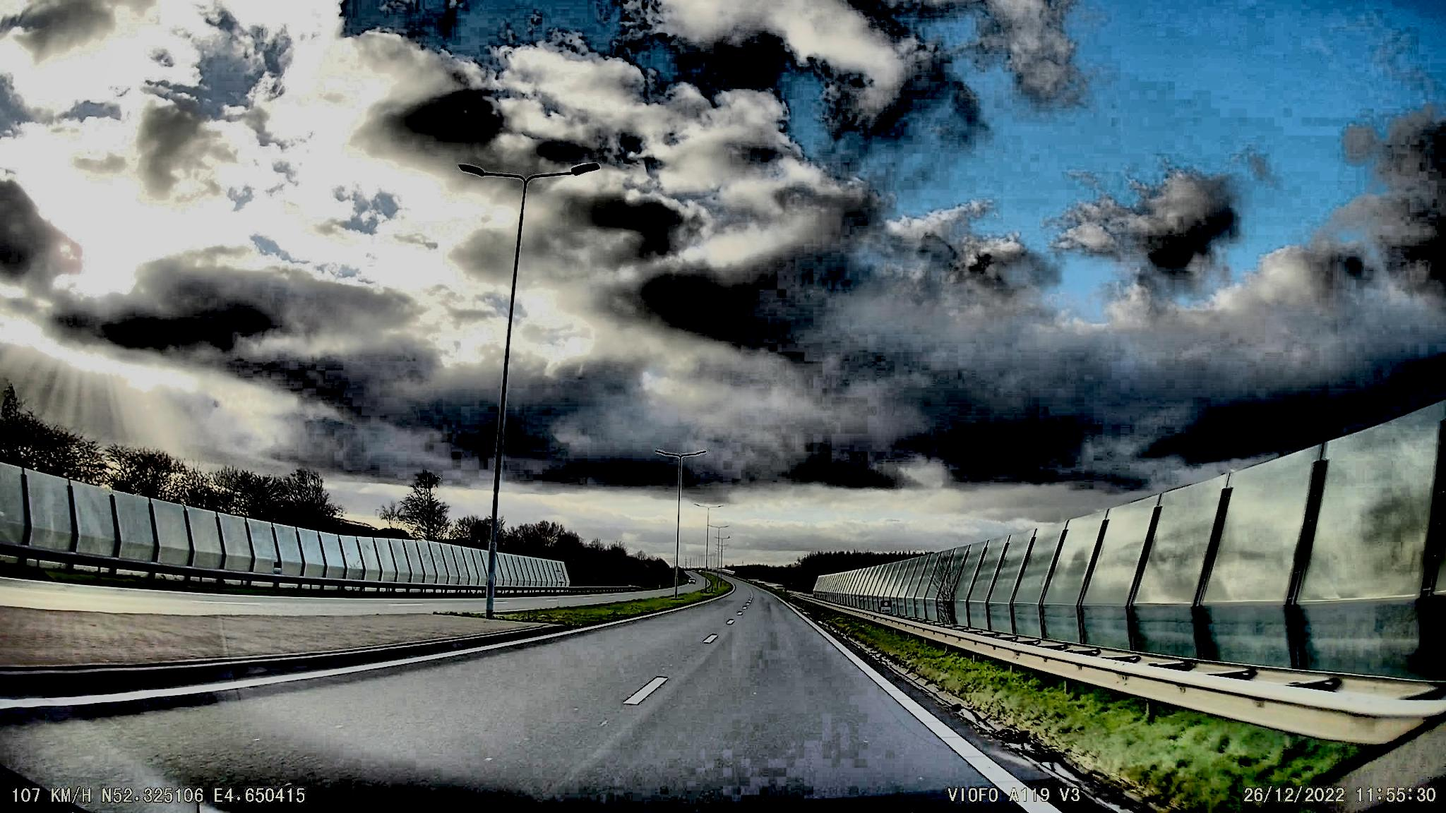Roads: (0, 585, 979, 813)
